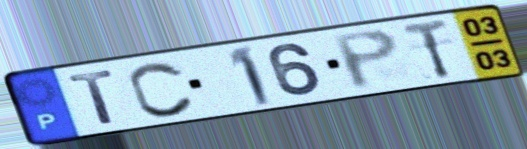1: (226, 45, 276, 108)
6: (266, 42, 325, 98)
C: (126, 59, 198, 119)
P: (328, 26, 402, 92)
T: (398, 16, 454, 81), (65, 67, 119, 127)
